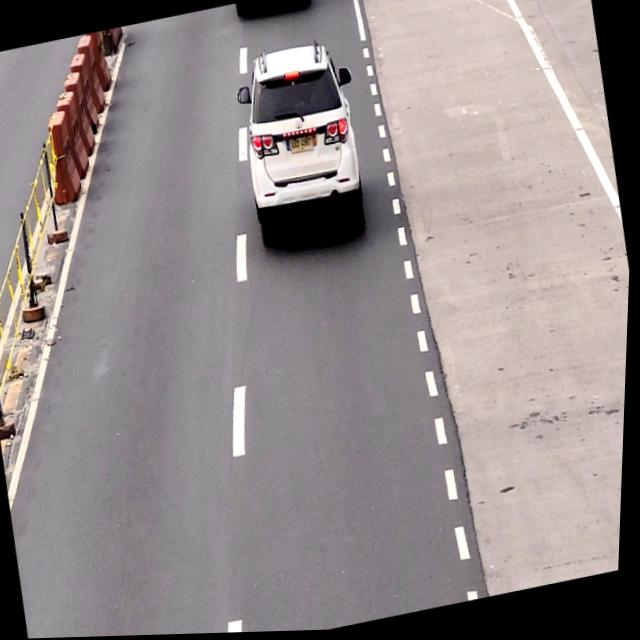Car: (228, 41, 377, 258)
License-Plate: (289, 132, 317, 155)
